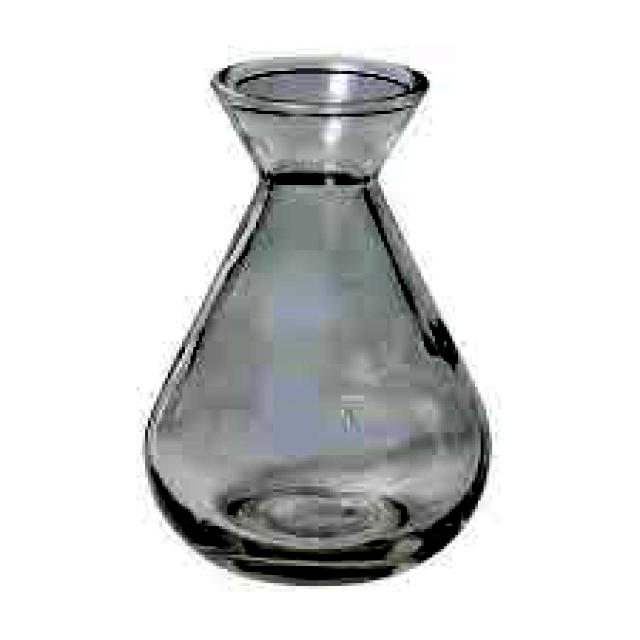Glass: (134, 49, 499, 590)
